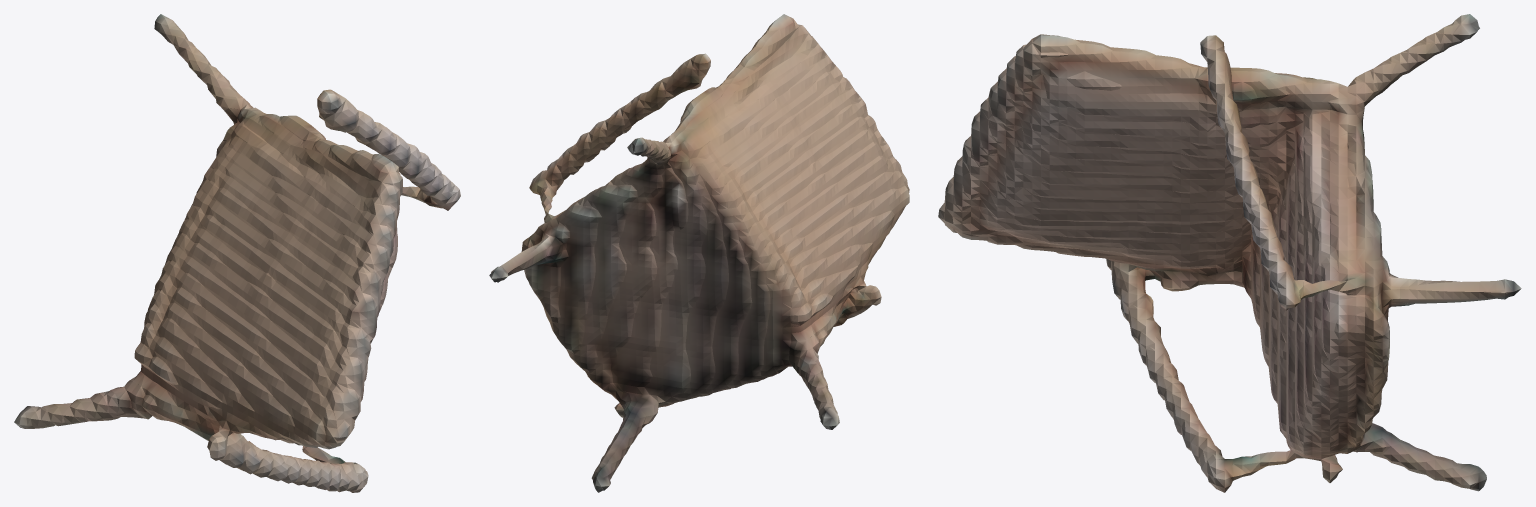
The model's file is neural-mesh.glb.
The picture shows the model from 3 angles, left to right: view 1: azimuth 30°, elevation 25°; view 2: azimuth 150°, elevation 25°; view 3: azimuth 270°, elevation 25°; orthographic projection. The views are drawn at different scales.
Visible parts, largest first — view 1: world; view 2: world; view 3: world.
Part boxes in pixels (x1=…): world: x1=14, y1=14, x2=460, y2=492; world: x1=489, y1=14, x2=909, y2=492; world: x1=938, y1=14, x2=1521, y2=492.
Bounding box in the file's own units: 0.7765 × 0.7874 × 0.913.
